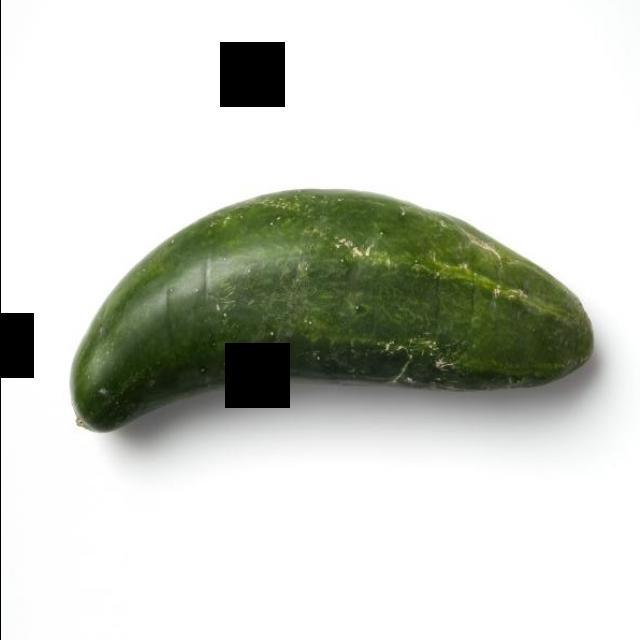cucumber: (66, 180, 598, 442)
